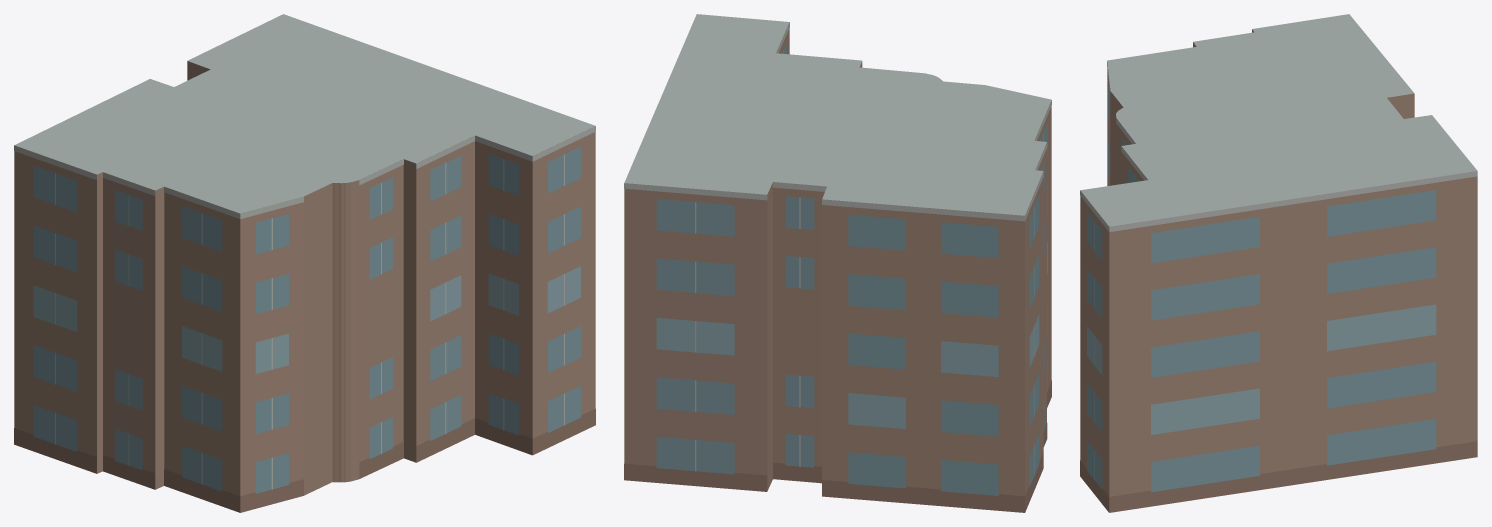
File: survey-upis-32659819.glb
3 renders of one model, left to right at view 1: azimuth 30°, elevation 25°; view 2: azimuth 150°, elevation 25°; view 3: azimuth 270°, elevation 25°, orthographic. The views are drawn at different scales.
Parts seen in each view (by area): view 1: survey-upis-32659819.tmp; view 2: survey-upis-32659819.tmp; view 3: survey-upis-32659819.tmp.
Part boxes in pixels (<box>): survey-upis-32659819.tmp: <box>14,14,595,512</box>; survey-upis-32659819.tmp: <box>624,14,1051,512</box>; survey-upis-32659819.tmp: <box>1080,14,1477,512</box>.
Size of the model in its own units: 20.72 by 12.98 by 16.36.
